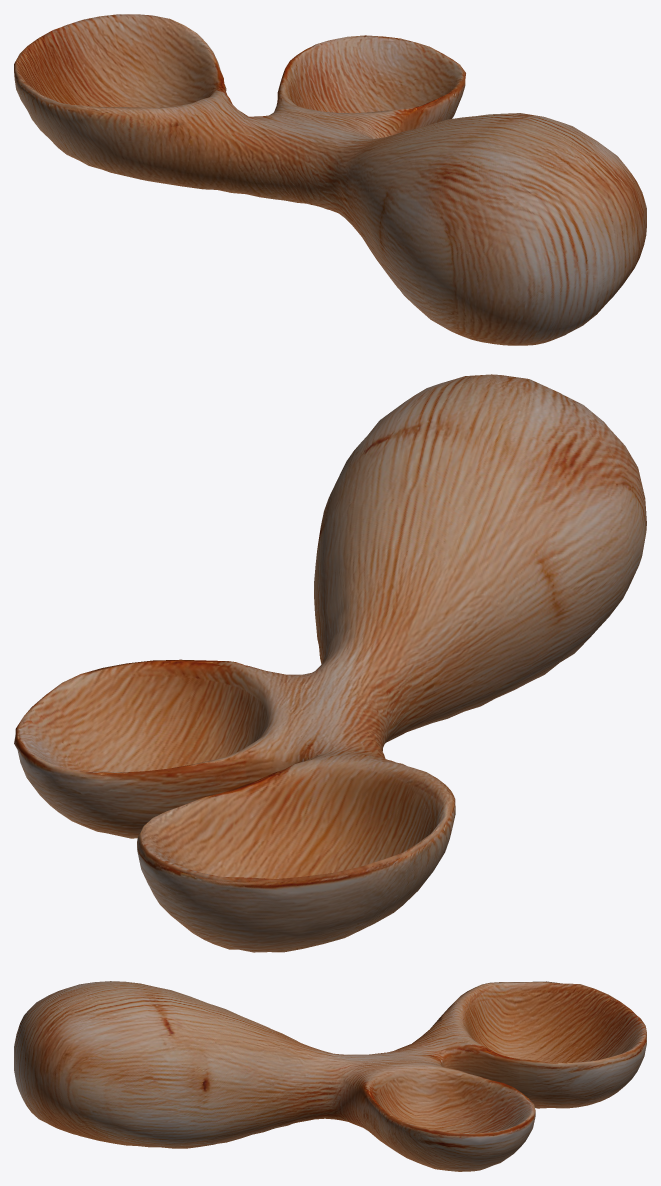
Rendered from spiseredskap_01.glb.
The picture shows the model from 3 angles, top to bottom: view 1: azimuth 30°, elevation 25°; view 2: azimuth 150°, elevation 25°; view 3: azimuth 270°, elevation 25°; orthographic projection. The views are drawn at different scales.
Parts seen in each view (by area): view 1: tripo_node_cecb7644-775e-4a6a-8b4b-1f3f08c8cd4c; view 2: tripo_node_cecb7644-775e-4a6a-8b4b-1f3f08c8cd4c; view 3: tripo_node_cecb7644-775e-4a6a-8b4b-1f3f08c8cd4c.
Boxes of the visible parts, box(x1,y1,x2,y2) form: tripo_node_cecb7644-775e-4a6a-8b4b-1f3f08c8cd4c: box(14, 14, 646, 345); tripo_node_cecb7644-775e-4a6a-8b4b-1f3f08c8cd4c: box(14, 374, 646, 952); tripo_node_cecb7644-775e-4a6a-8b4b-1f3f08c8cd4c: box(14, 981, 646, 1171).
Size of the model in its own units: 0.5254 by 0.2715 by 0.998.
1 material, 1 textured.
